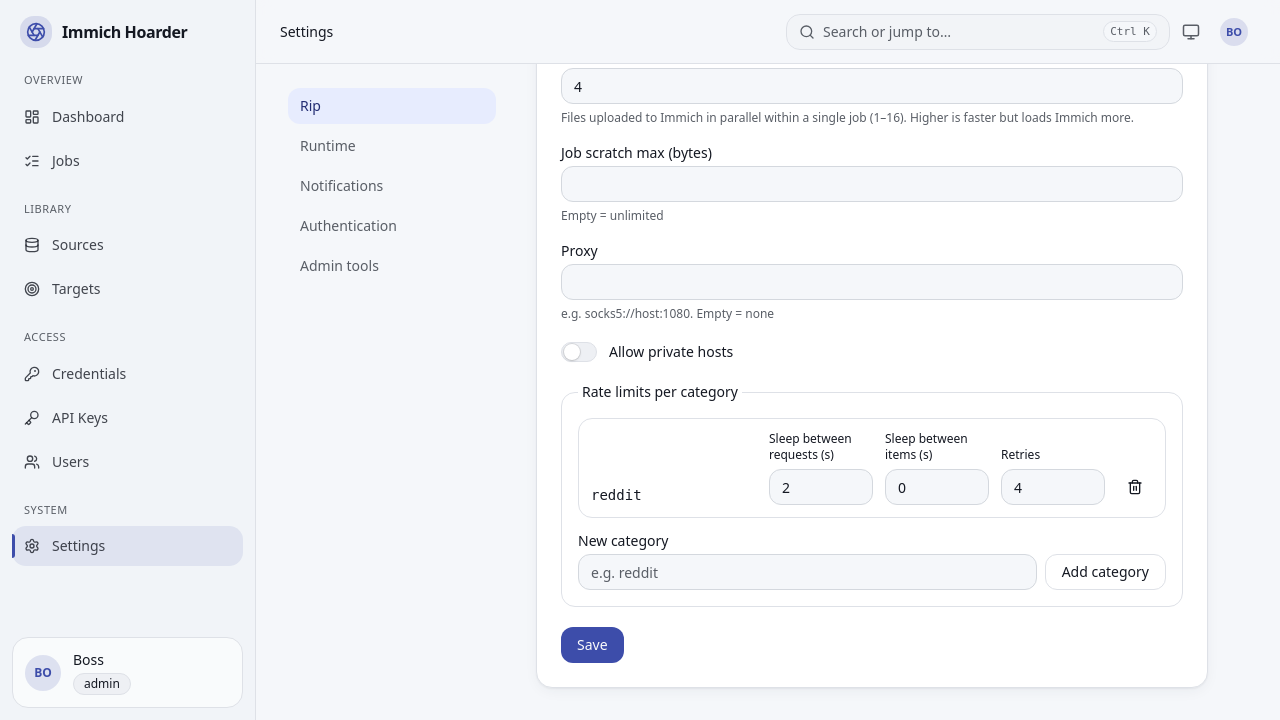
Test case: settings › rate limit duplicate category blocked
The image size is (1280, 720).
(page scrolled)
Type "reddit" into the field labelled "New category" at (807, 572), box [578,554,1037,590]
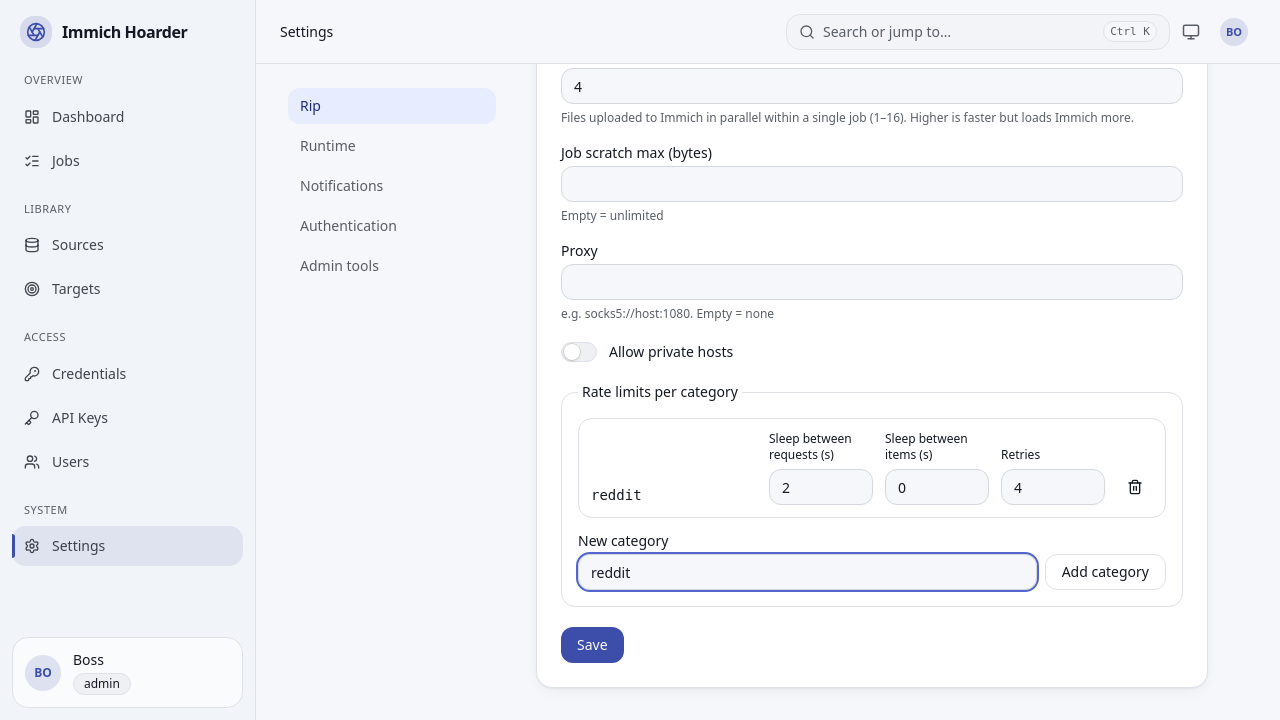
Click the button "Add category" at (1105, 572), box [1045,554,1166,590]
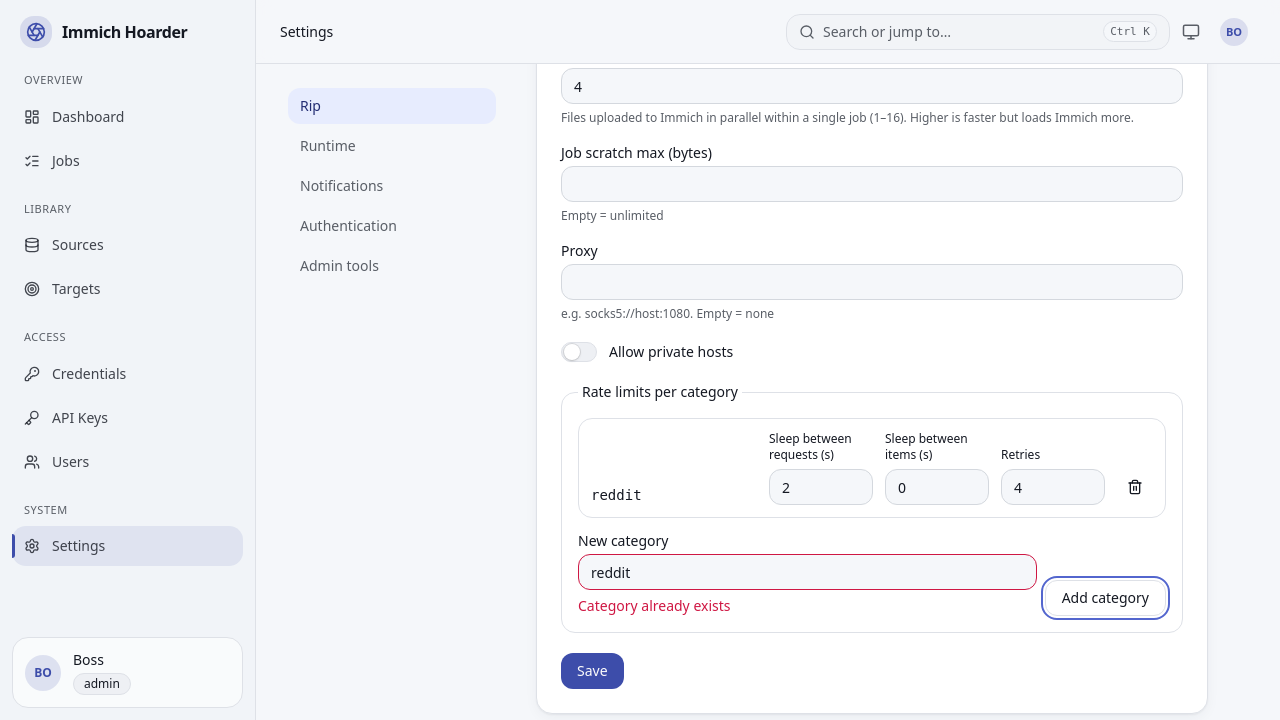
Check: the number of number fields labelled "Retries" is 1, box [1001,469,1105,505]
Check: the text "Category already exists" is shown, box [578,596,730,615]
Replace the text in the field labelled "New category" with "twitter" at (807, 572), box [578,554,1037,590]
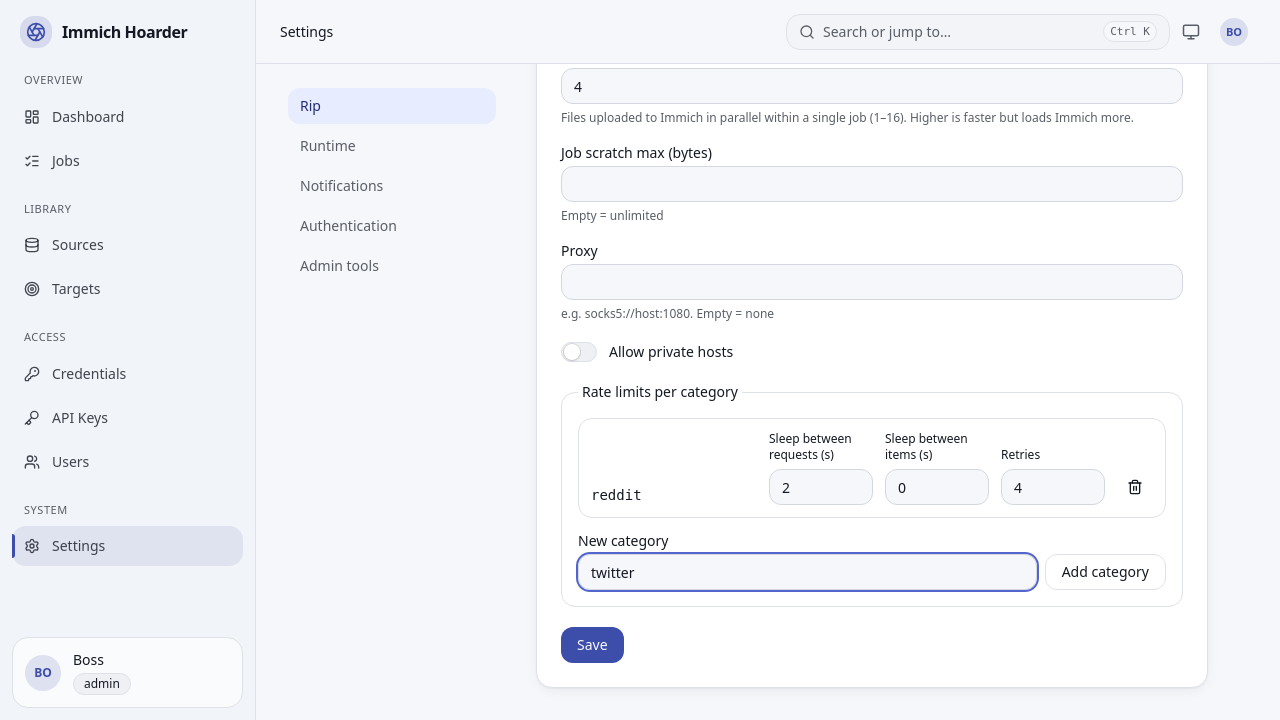
Click the button "Add category" at (1105, 572), box [1045,554,1166,590]
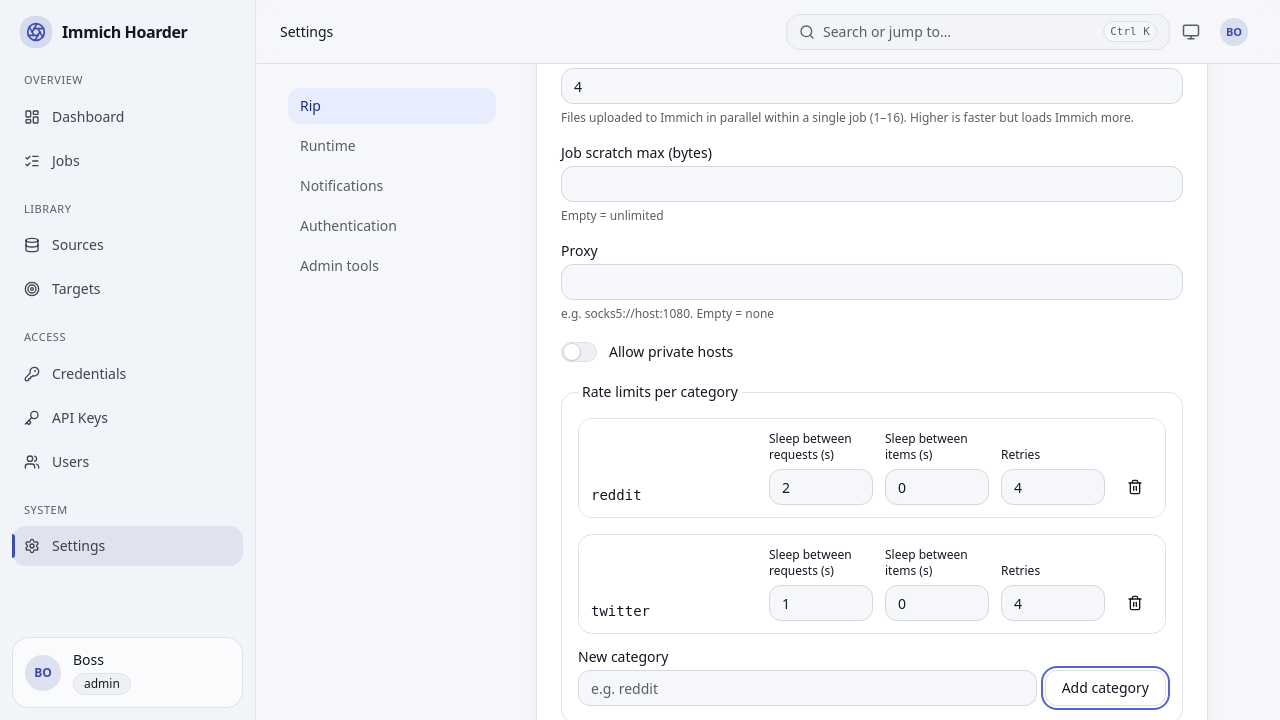
Check: the number of number fields labelled "Retries" is 2, box [1001,469,1105,505]; [1001,585,1105,621]
